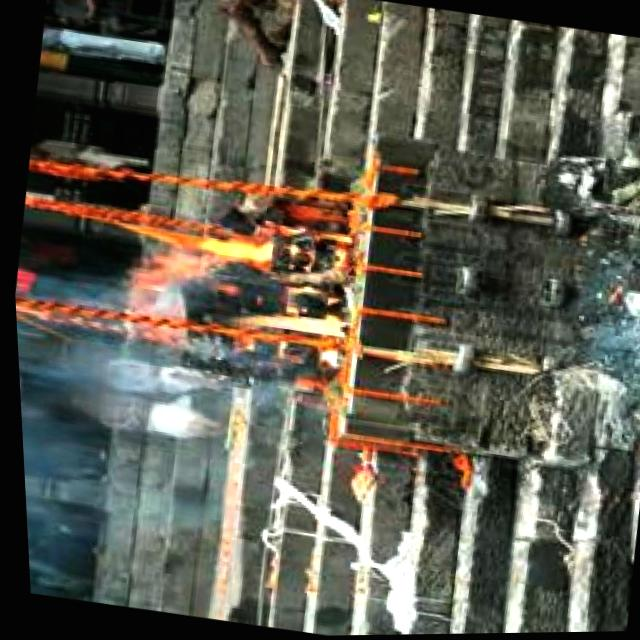Fire: (121, 210, 282, 303), (223, 294, 353, 367)
